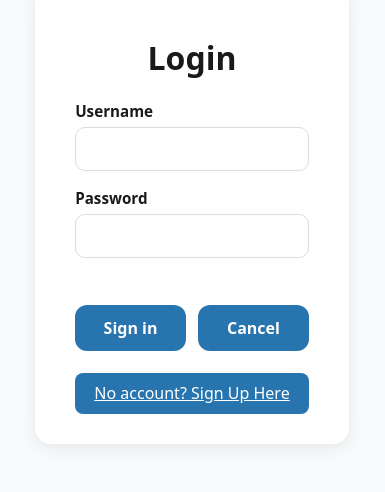
Test: Test when user is not logged in › user that doesn't exist shows error
Type "pedro" into the field labelled "Username" at x=192, y=149, box [75, 127, 309, 171]
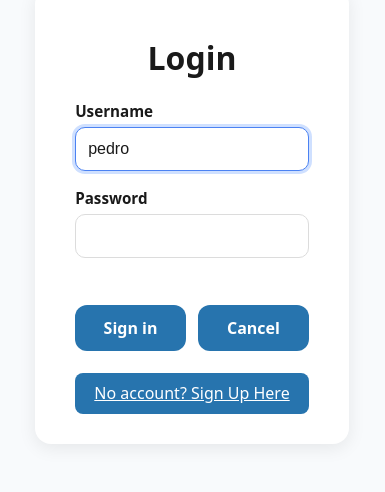
Type "123" into the password field labelled "Password" at x=192, y=236, box [75, 214, 309, 258]
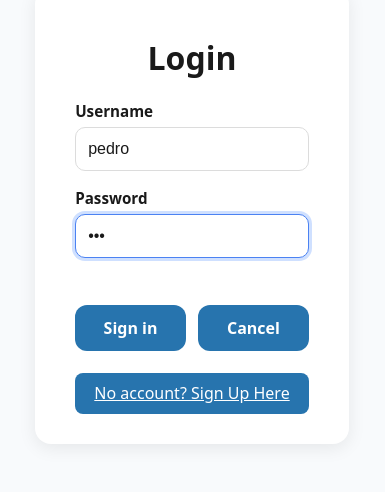
Click the button "Sign in" at x=131, y=328, box [75, 304, 186, 350]
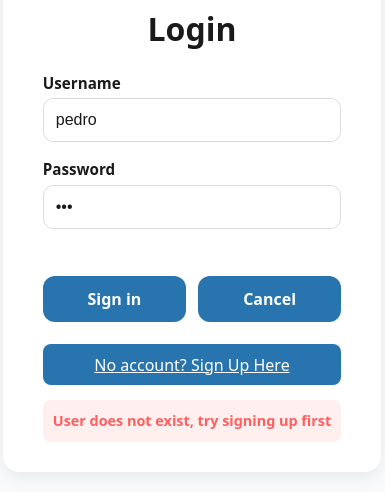
Result: the text "User does not exist, try signing up first" is shown at [43, 400, 341, 442]
